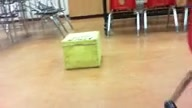cube: (61, 31, 99, 70)
